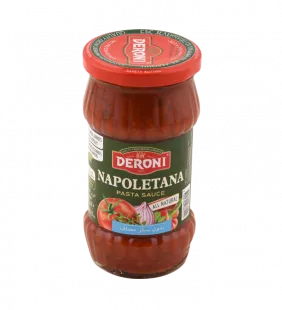DERONI: (76, 20, 212, 284)
